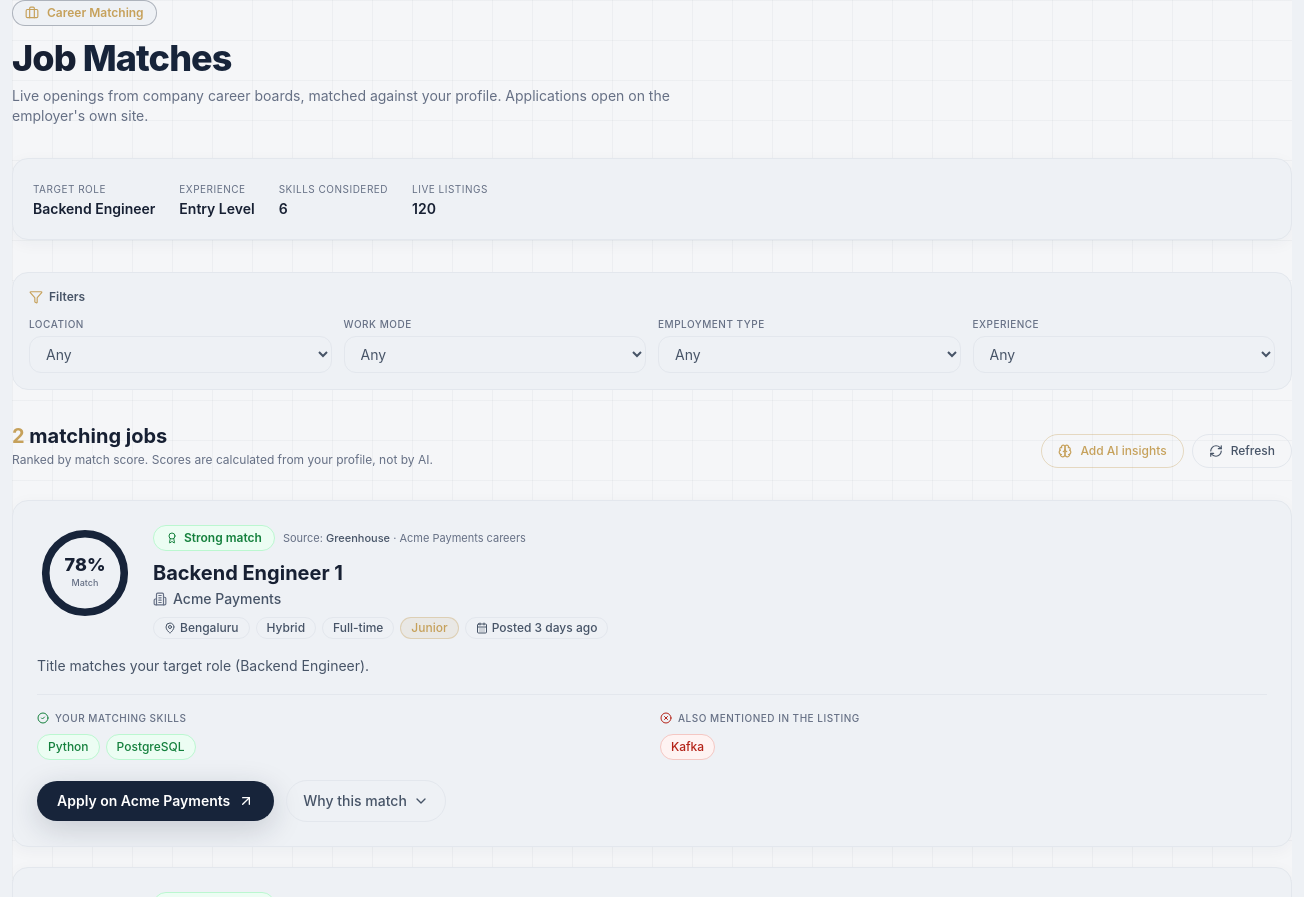
Test: presentation states with results › a withdrawn listing disappears after refresh
Click the button with aria-label "refresh career matches" at (1242, 451), box [1192,434,1292,468]
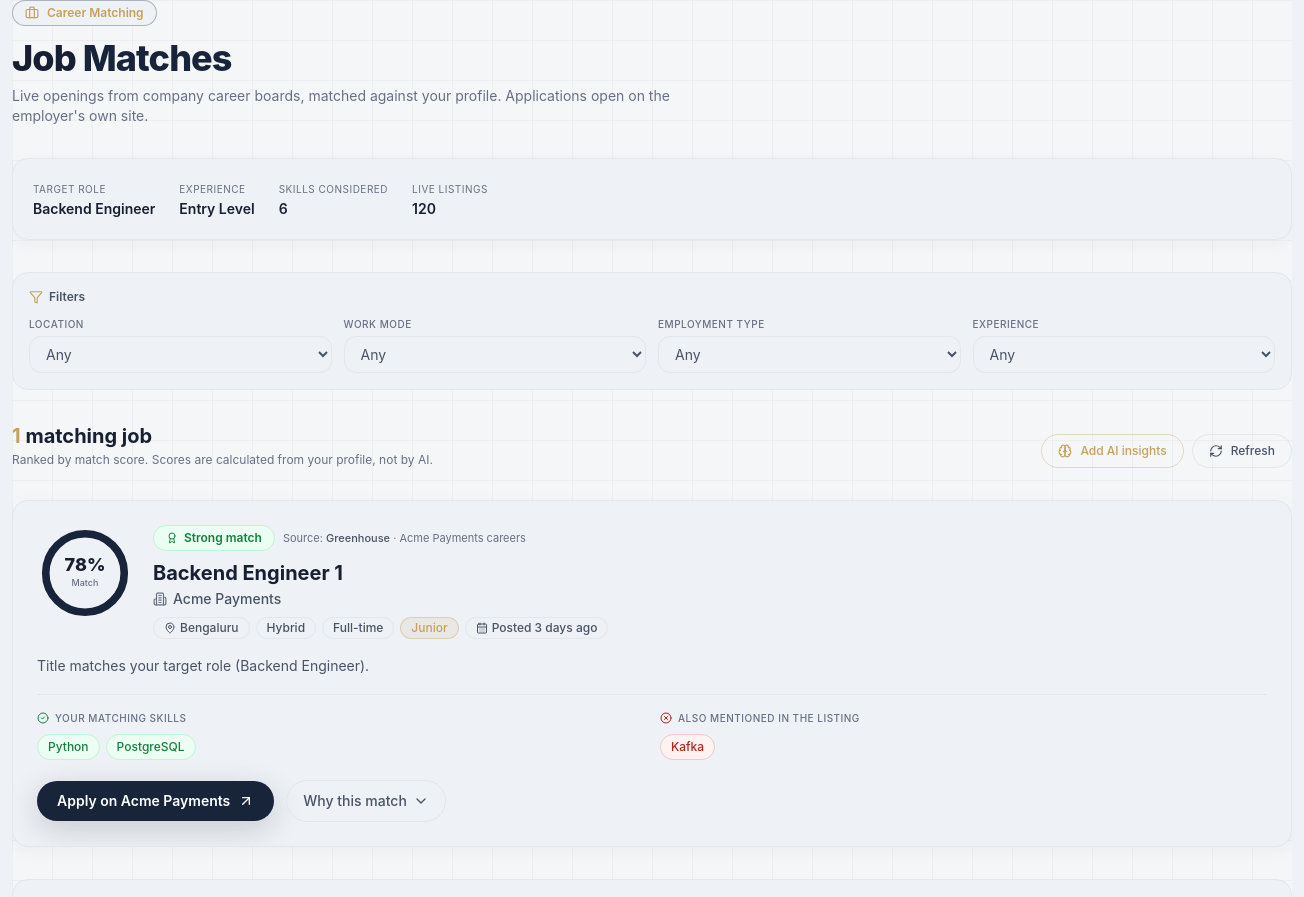
expect the number of elements with test id "job-card" is 1: met, box [12,500,1292,847]
